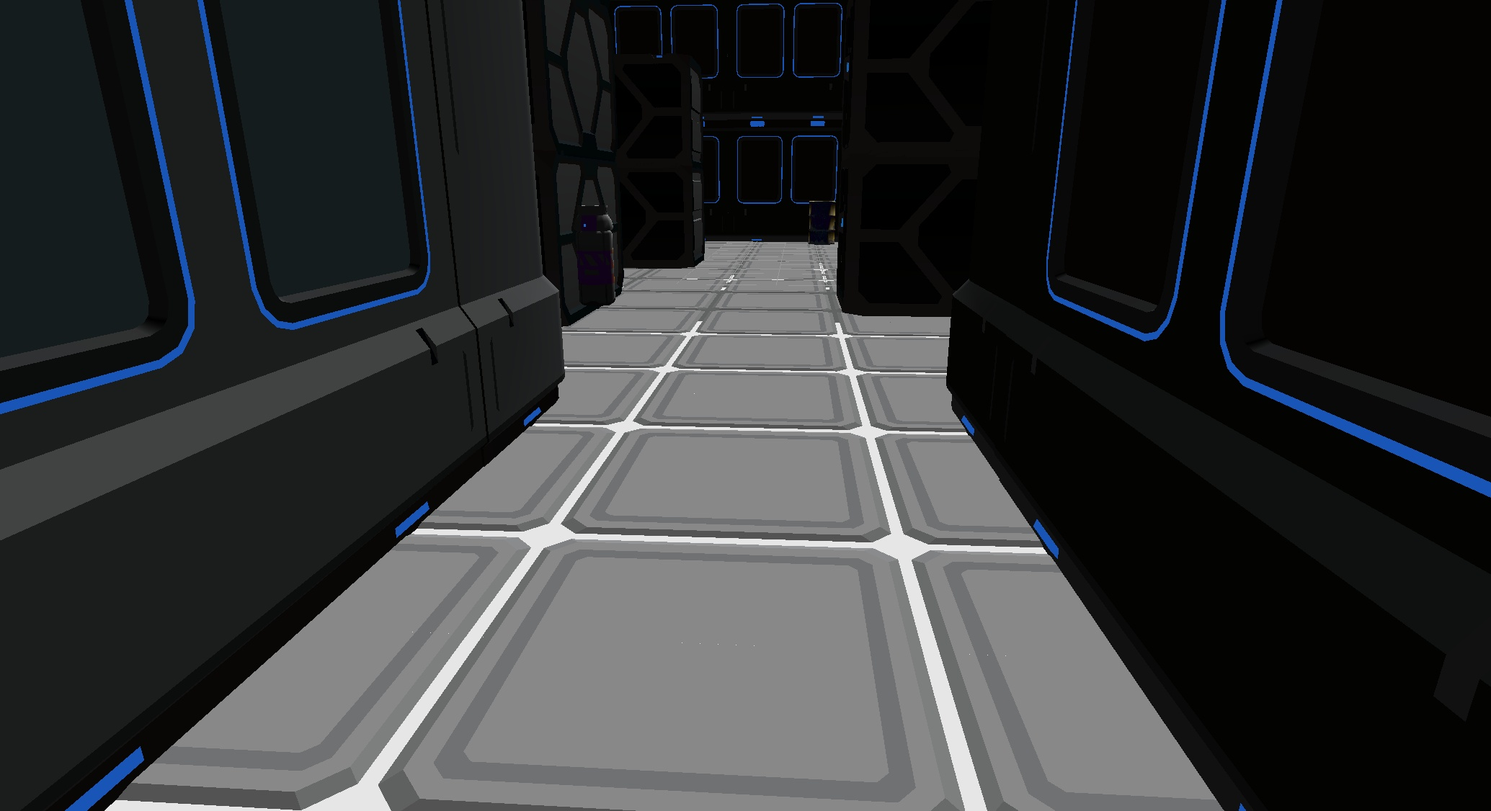yellow_barrel: (565, 205, 618, 305)
